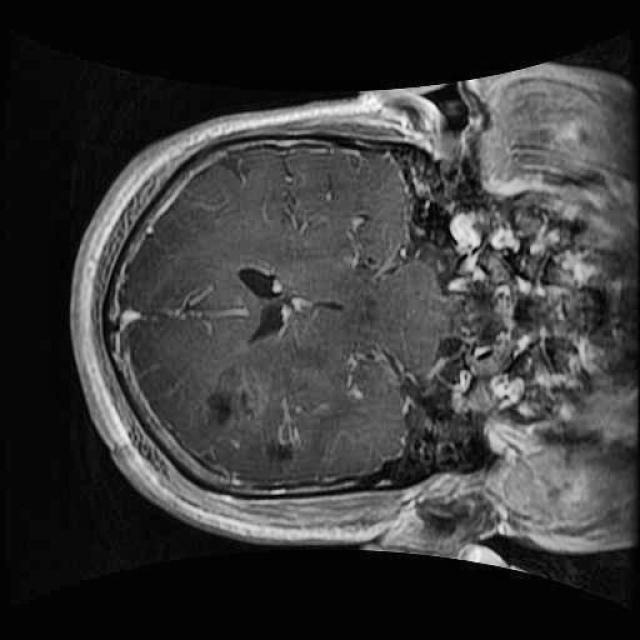Tumor: (186, 343, 356, 489)
